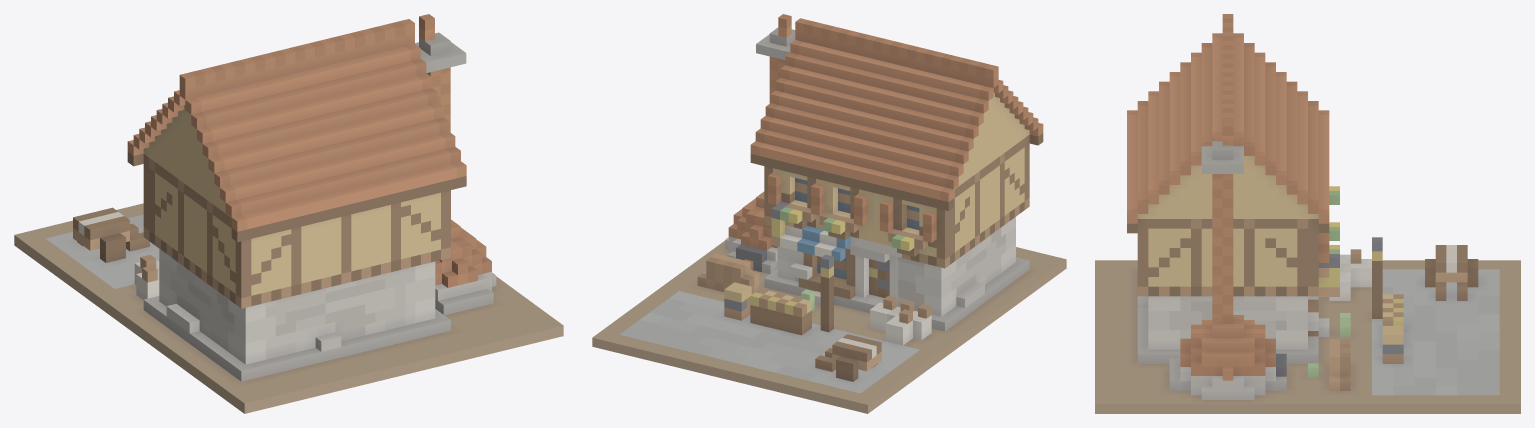
Rendered from bakery.glb.
The picture shows the model from 3 angles, left to right: view 1: azimuth 30°, elevation 25°; view 2: azimuth 150°, elevation 25°; view 3: azimuth 270°, elevation 25°; orthographic projection. The views are drawn at different scales.
Visible parts, largest first — view 1: bakery; view 2: bakery; view 3: bakery.
Part boxes in pixels (box(x1,y1,x2,y2)): bakery: box(14, 14, 563, 413); bakery: box(592, 14, 1066, 413); bakery: box(1095, 14, 1520, 413).
Bounding box in the file's own units: 4 × 3.38 × 5.
